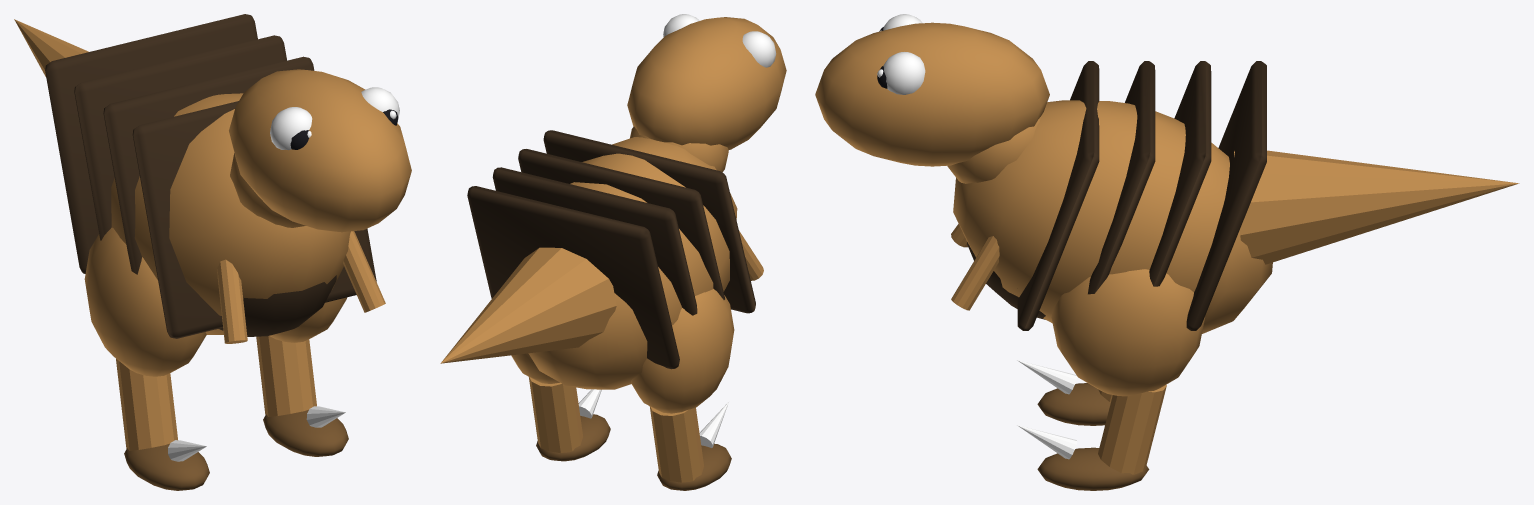
3 views of the same model, side by side, from view 1: azimuth 30°, elevation 25°; view 2: azimuth 150°, elevation 25°; view 3: azimuth 270°, elevation 25° (orthographic). The views are drawn at different scales.
Visible parts, largest first — view 1: Raptor; view 2: Raptor; view 3: Raptor.
Part boxes in pixels (x1,y1,x2,y2): Raptor: [14, 14, 411, 490]; Raptor: [440, 14, 786, 490]; Raptor: [815, 14, 1519, 490].
Size of the model in its own units: 1.9 by 3.34 by 5.04.
1 material, 1 textured.
